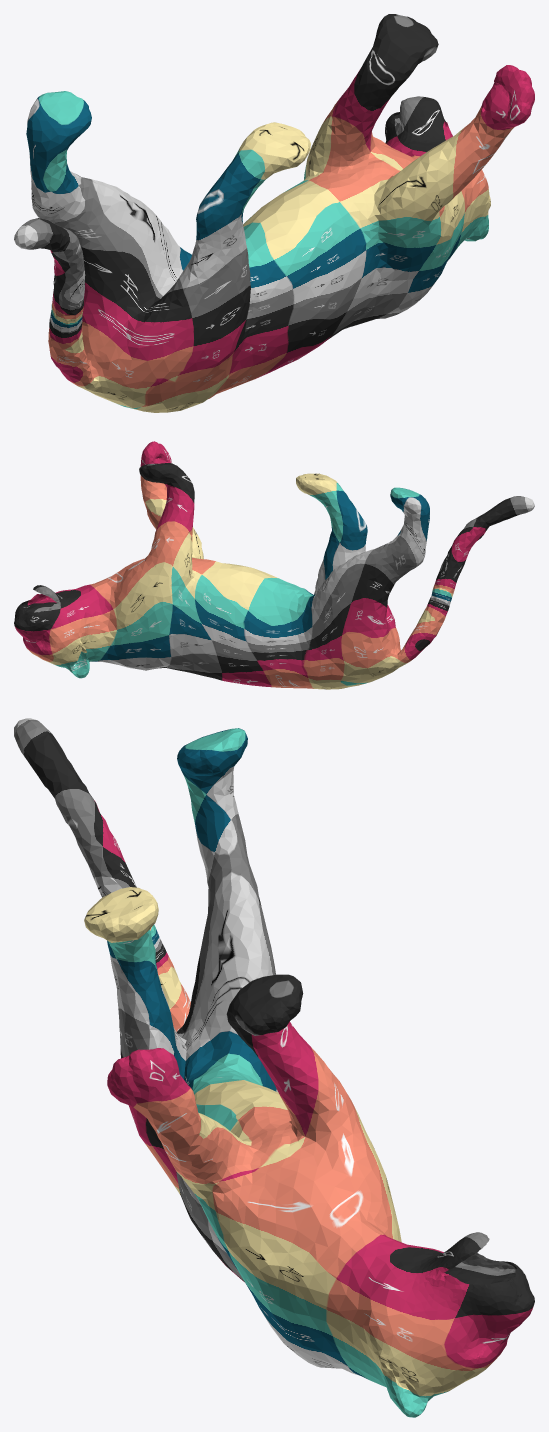
File: hippo_04-cougar_04.obj
The picture shows the model from 3 angles, top to bottom: view 1: azimuth 30°, elevation 25°; view 2: azimuth 150°, elevation 25°; view 3: azimuth 270°, elevation 25°; orthographic projection. The views are drawn at different scales.
Parts seen in each view (by area): view 1: hippo_04-cougar_04_export; view 2: hippo_04-cougar_04_export; view 3: hippo_04-cougar_04_export.
Boxes of the visible parts, box(x1,y1,x2,y2) form: hippo_04-cougar_04_export: box(14, 14, 534, 412); hippo_04-cougar_04_export: box(14, 441, 534, 689); hippo_04-cougar_04_export: box(14, 718, 534, 1417).
Bounding box in the file's own units: 1.06 × 0.5502 × 0.6287.
